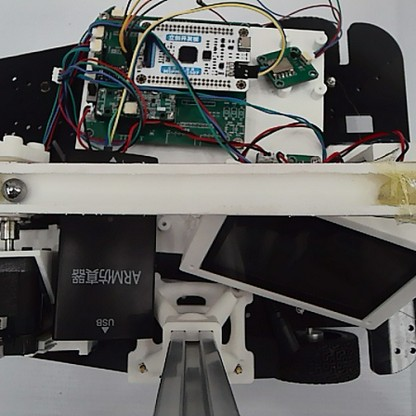ironball: (0, 174, 29, 203)
